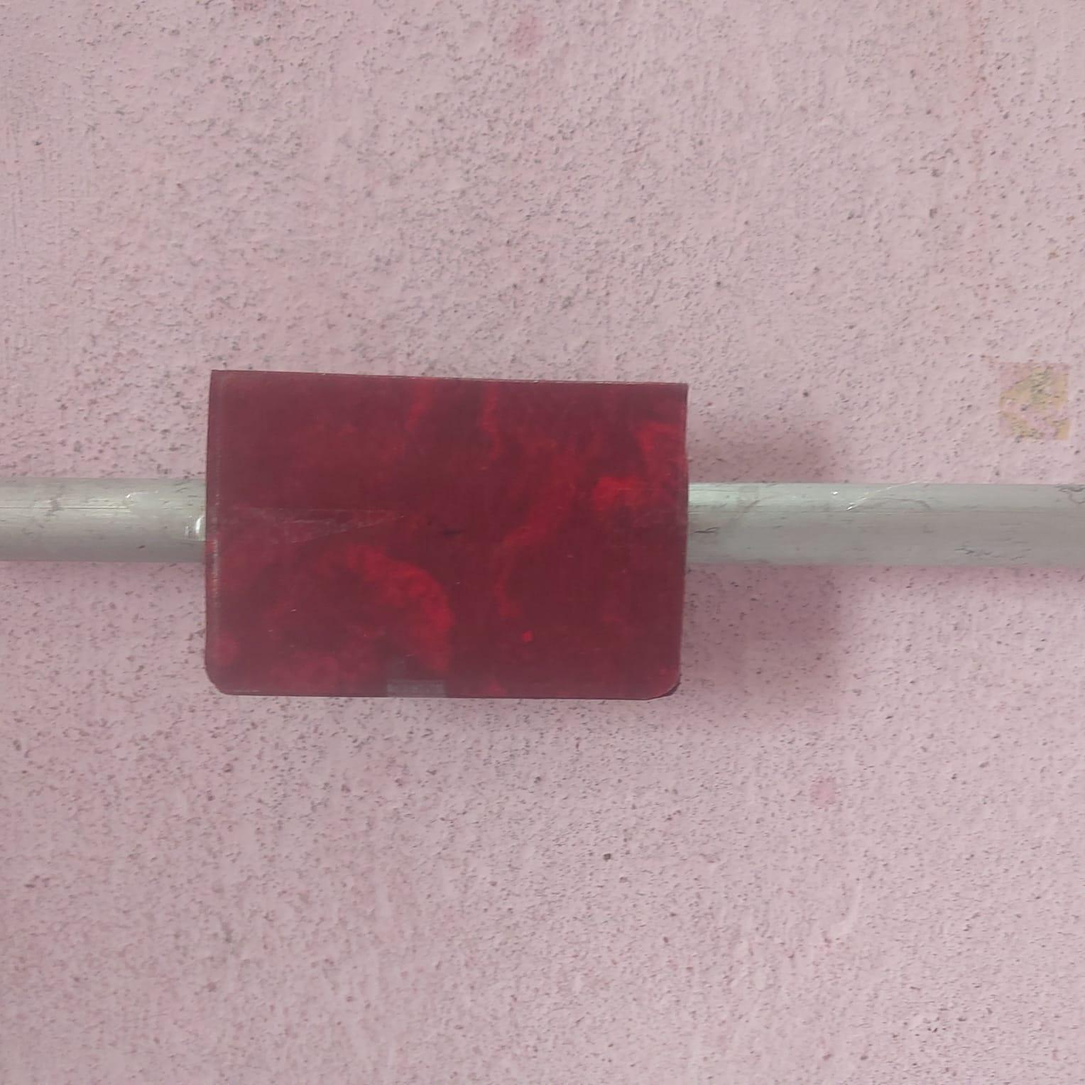wallet: (205, 369, 689, 696)
